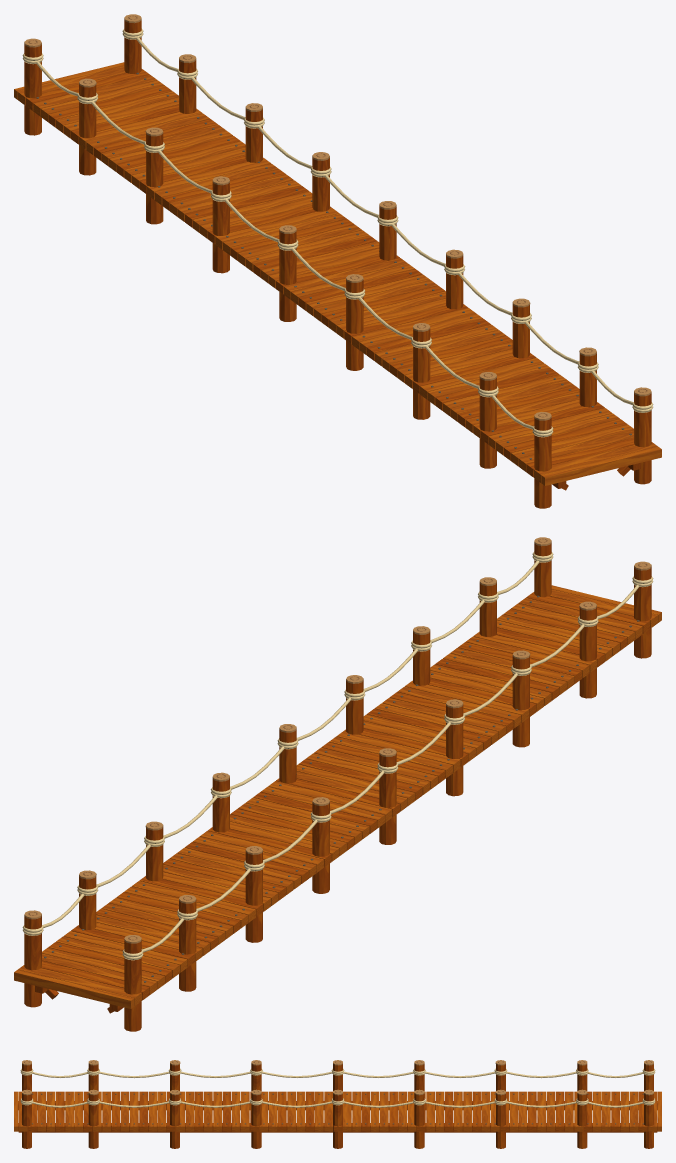
Rendered from wooden-bridge-14.gltf.
The picture shows the model from 3 angles, top to bottom: view 1: azimuth 30°, elevation 25°; view 2: azimuth 150°, elevation 25°; view 3: azimuth 270°, elevation 25°; orthographic projection. The views are drawn at different scales.
Parts seen in each view (by area): view 1: wooden-bridge-14; view 2: wooden-bridge-14; view 3: wooden-bridge-14.
Boxes of the visible parts, x1,y1,x2,y2 form: wooden-bridge-14: (14, 14, 661, 508); wooden-bridge-14: (14, 537, 661, 1031); wooden-bridge-14: (14, 1060, 661, 1148).
Size of the model in its own units: 1.8 by 1.31 by 14.
2 materials, 1 textured.
